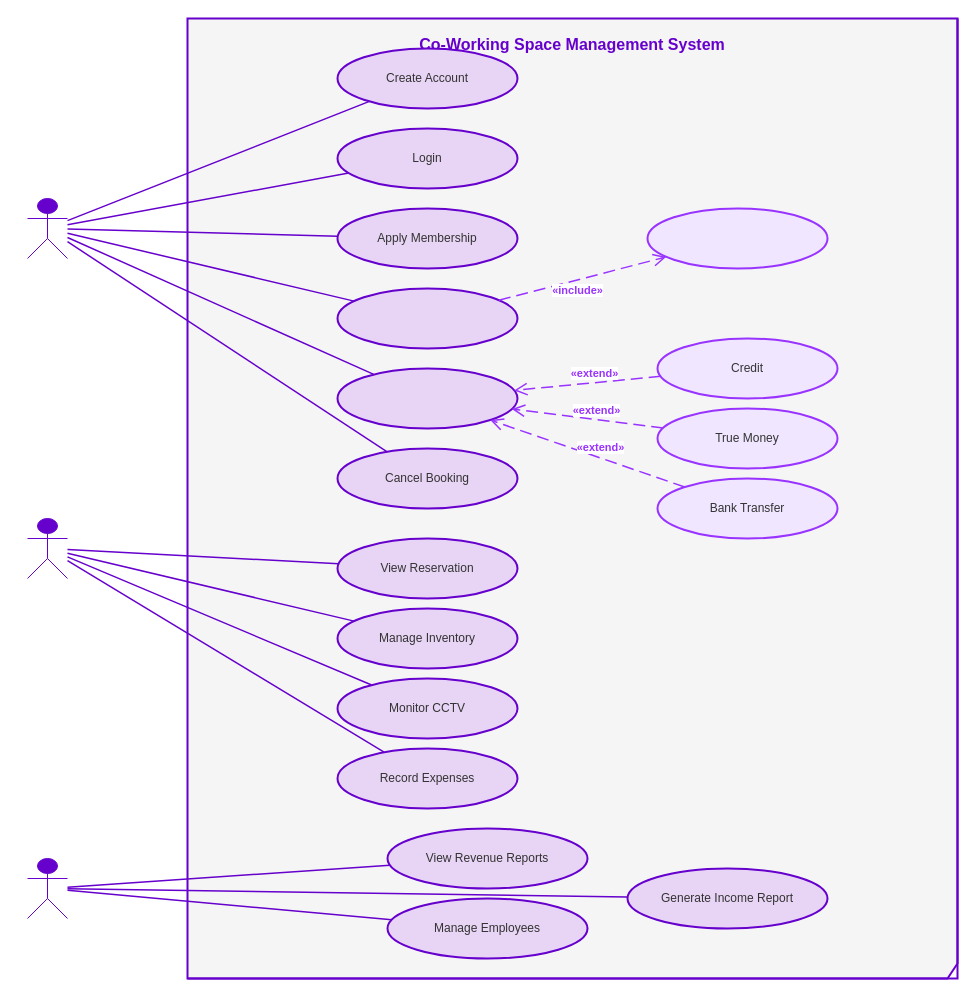
This 976x996 diagram has some shape labels left out. The box of each missing label's shape, as (x1, y1, x2, y2) in pixels:
Book Time Slot: (336, 287, 518, 349)
Check Availability: (646, 207, 828, 269)
Customer: (26, 198, 68, 258)
Employee: (26, 518, 68, 578)
Make Payment: (336, 367, 518, 429)
Manager: (26, 858, 68, 918)
